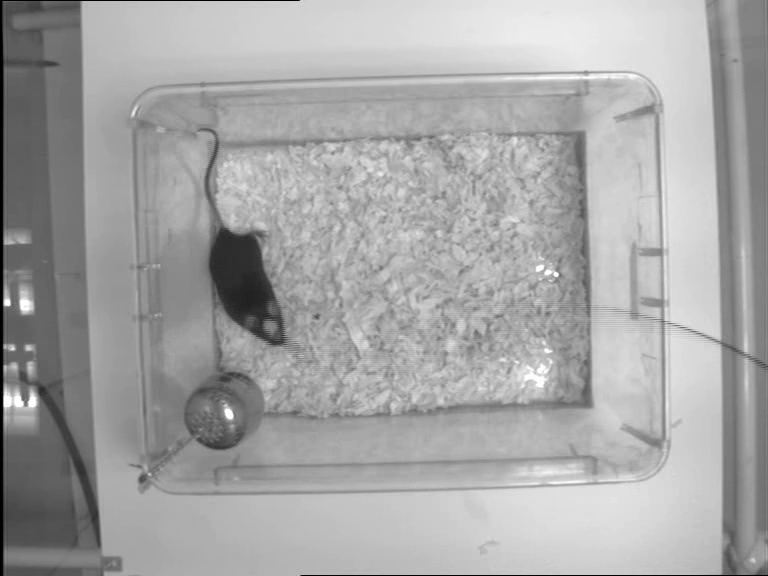mice: (196, 123, 288, 348)
